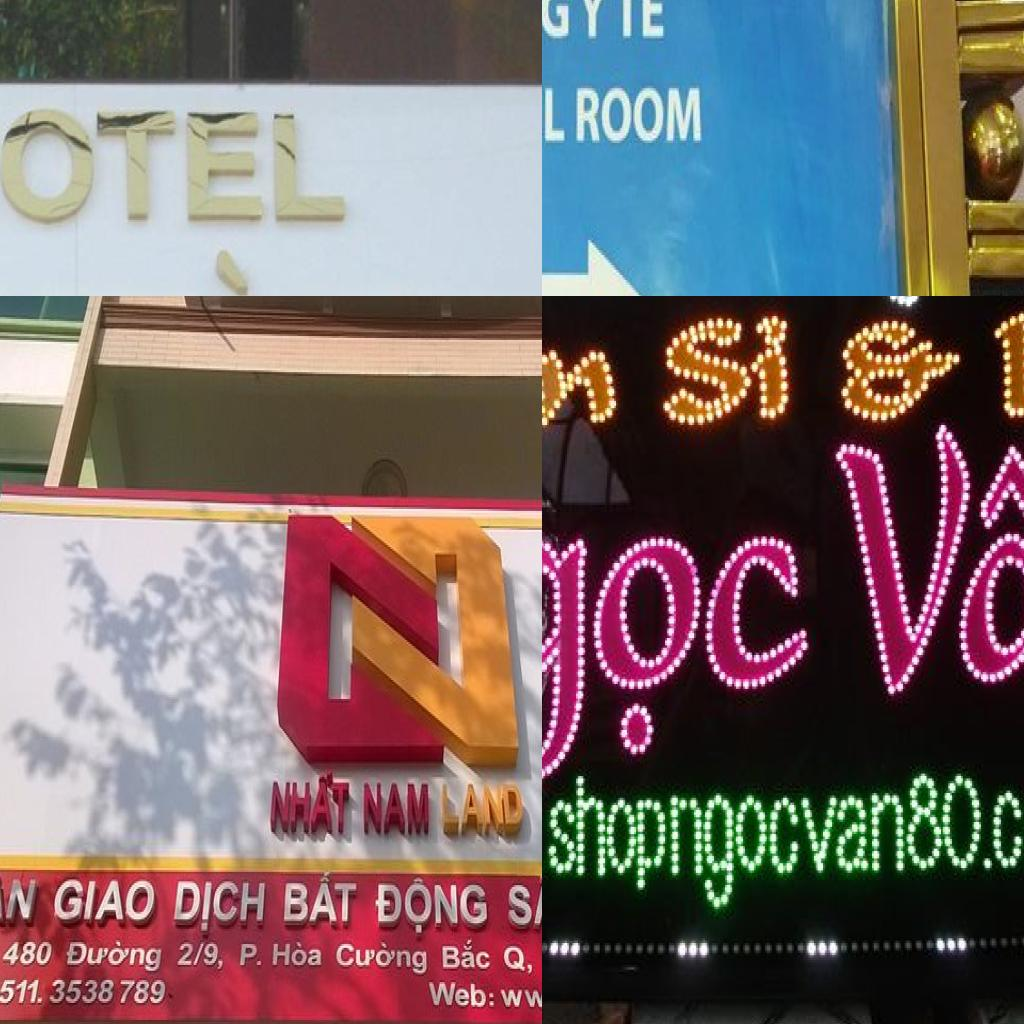text: (542, 451, 812, 788), (542, 773, 1024, 909), (828, 427, 1024, 698), (0, 100, 351, 226), (325, 547, 464, 710), (31, 245, 460, 296), (658, 318, 790, 432), (837, 321, 963, 423), (542, 323, 617, 439), (374, 876, 491, 936), (270, 765, 352, 836), (172, 882, 268, 936), (50, 878, 160, 925), (0, 978, 167, 1008), (442, 782, 529, 836), (283, 868, 359, 925), (989, 306, 1024, 424), (364, 780, 430, 838), (336, 936, 428, 976), (62, 938, 164, 974), (613, 0, 671, 43), (238, 940, 324, 969), (0, 868, 40, 923), (506, 873, 542, 930), (427, 980, 496, 1009), (440, 938, 492, 971), (0, 938, 55, 968), (503, 938, 542, 978), (176, 942, 226, 973), (574, 0, 606, 45)
